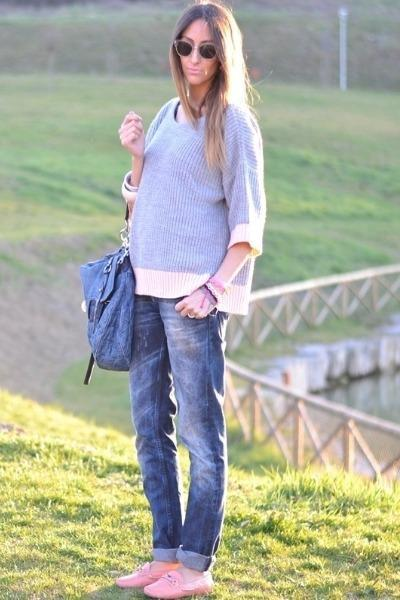bag: (80, 245, 136, 384)
pants: (126, 289, 225, 572)
shirt: (121, 96, 263, 275)
shoe: (116, 549, 203, 599)
